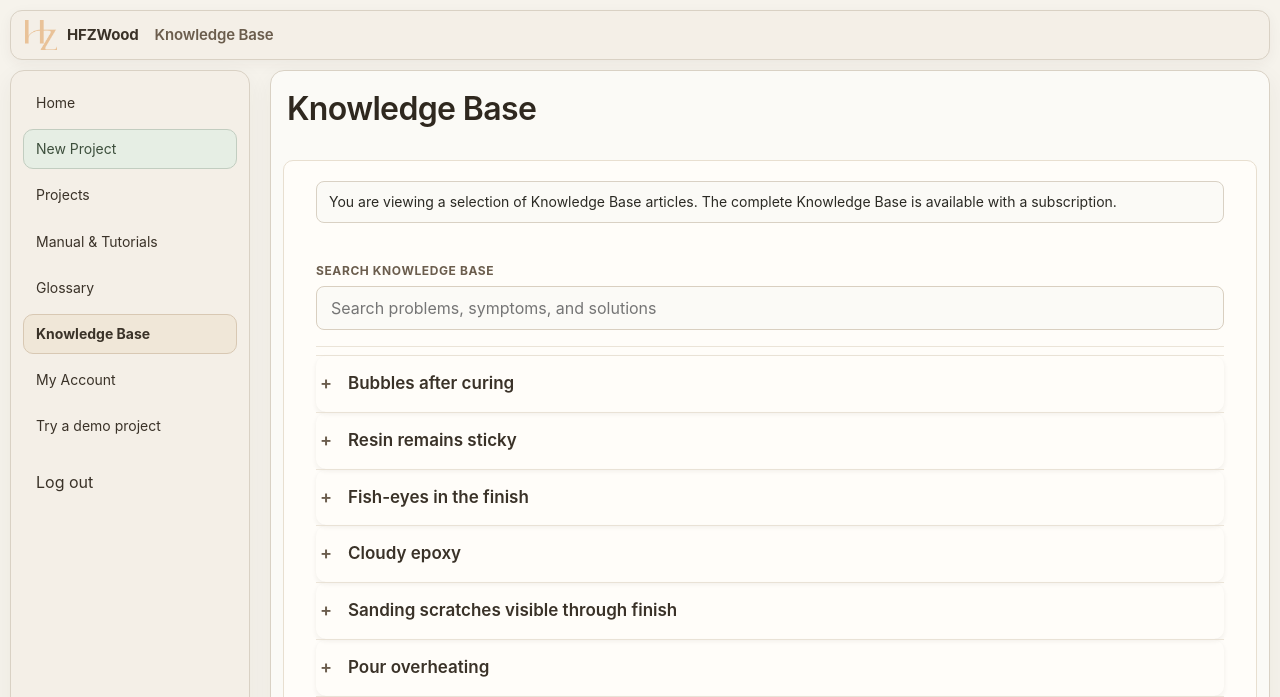
Test case: KnowledgeBasePage › shows a friendly empty state when no entries match
Step 1. Type "zzzz-no-match" into the search field labelled "Search knowledge base" → (770, 308), box [316, 286, 1224, 330]
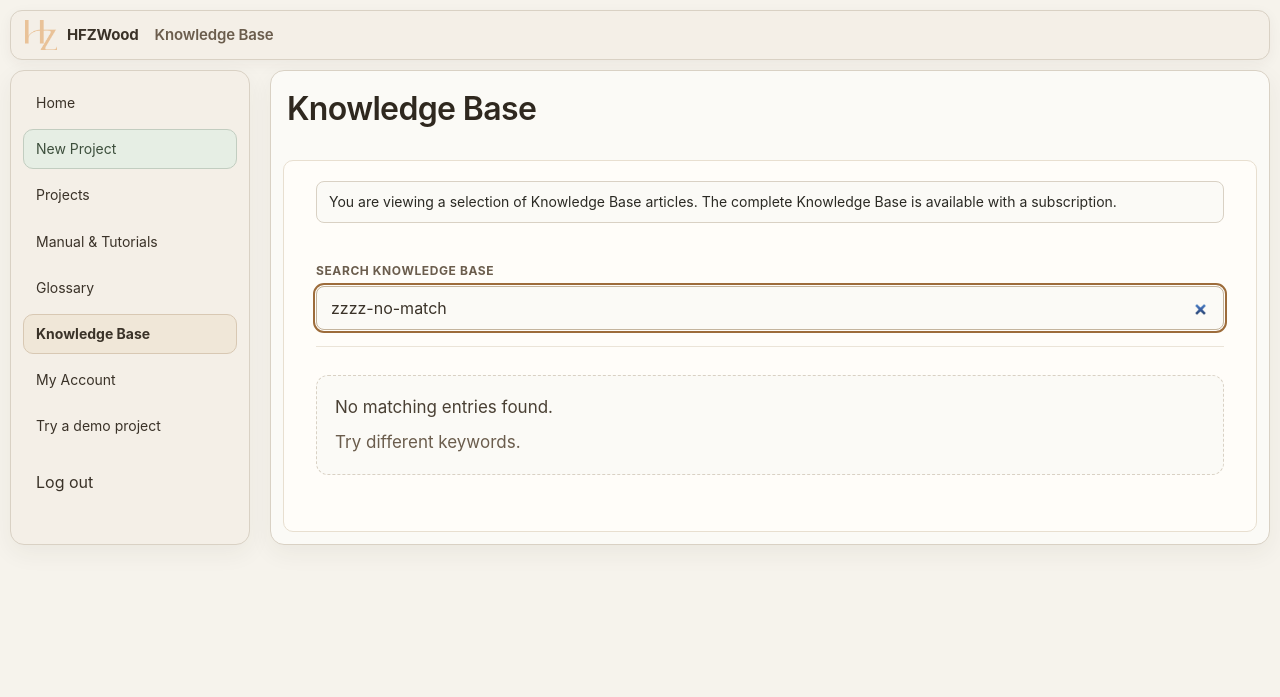
Check: the text "No matching entries found." is shown, box [335, 397, 553, 417]
Check: the text "Try different keywords." is shown, box [335, 432, 521, 452]
